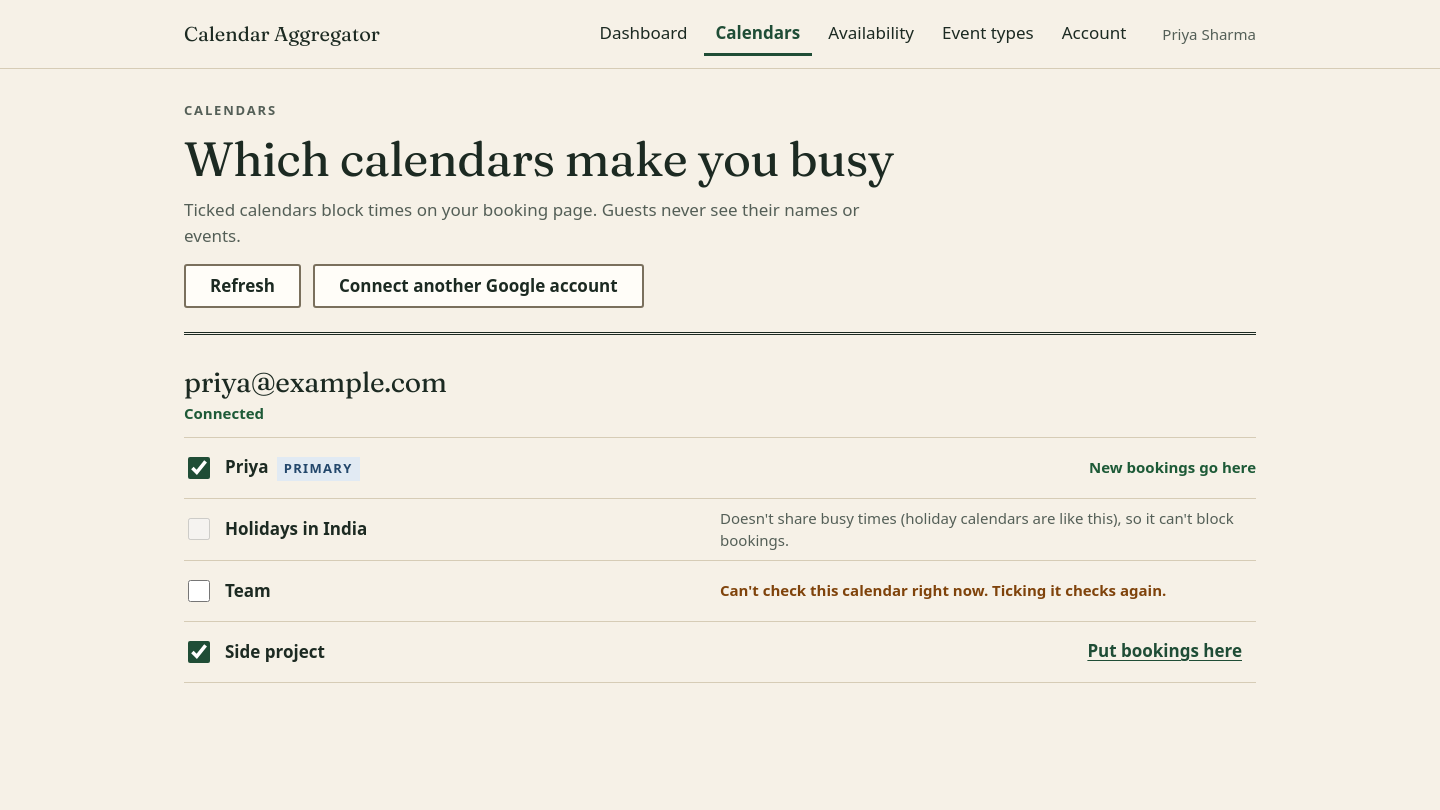
the calendars page › ticks a calendar, and shows the reason when the server refuses
Click the checkbox labelled "Team" at coordinates (199, 591), box [188,580,210,602]
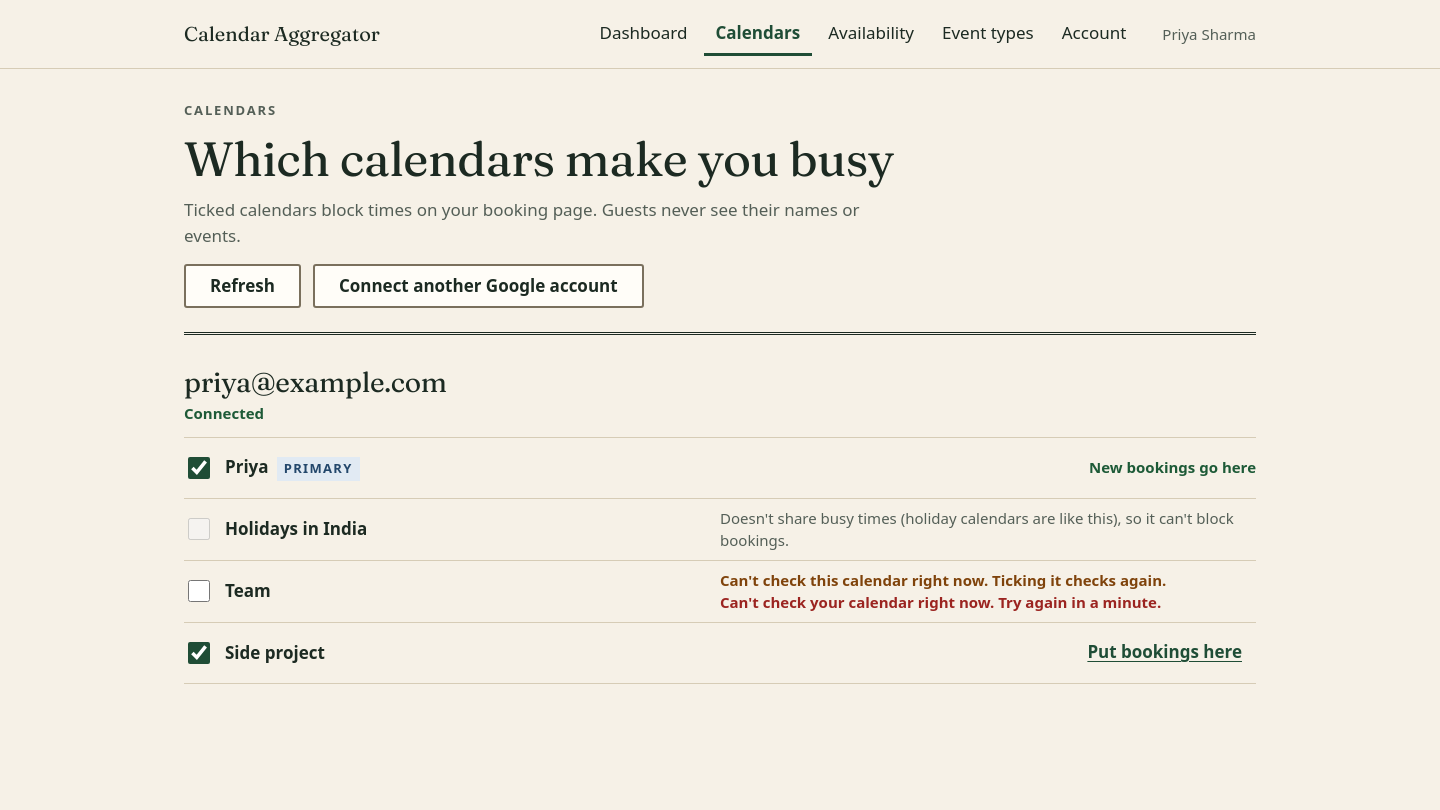
Result: the text "Can't check your calendar right now. Try again in a minute." is shown at [720,592,1161,612]
